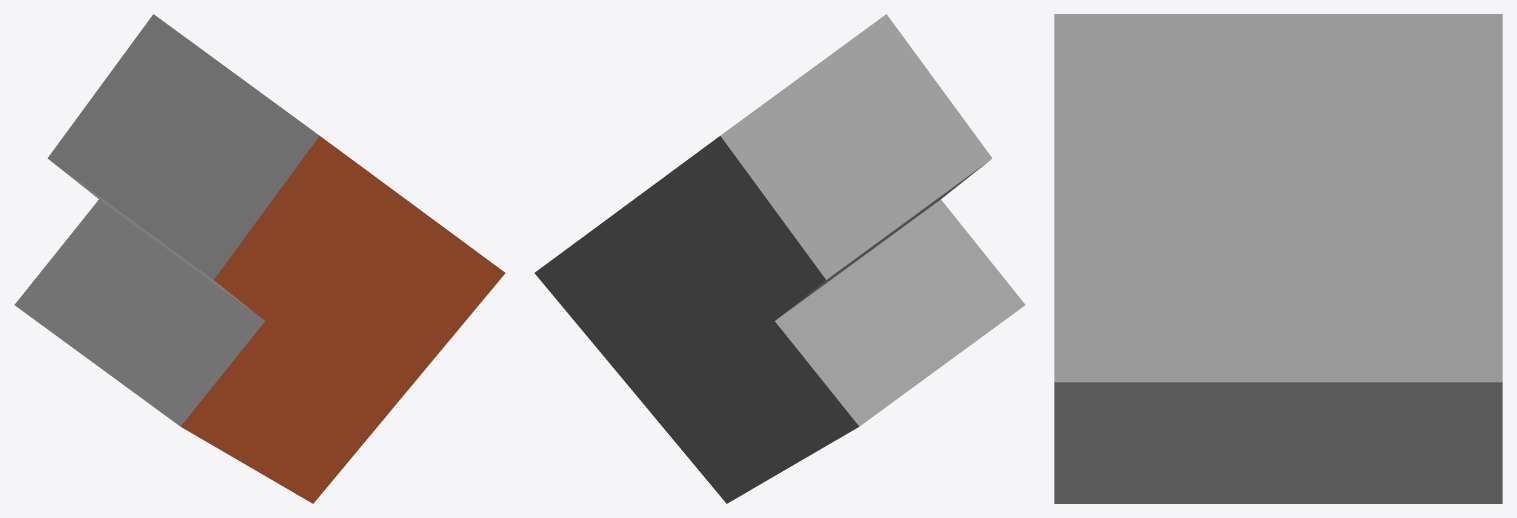
The model's file is construction_5410_assumed_A_Casa_h6m.obj.
3 renders of one model, left to right at view 1: azimuth 30°, elevation 25°; view 2: azimuth 150°, elevation 25°; view 3: azimuth 270°, elevation 25°, orthographic. The views are drawn at different scales.
Parts seen in each view (by area): view 1: construction_5410_assumed_A_Casa; view 2: construction_5410_assumed_A_Casa; view 3: construction_5410_assumed_A_Casa.
Boxes of the visible parts, x1,y1,x2,y2 form: construction_5410_assumed_A_Casa: (14, 14, 505, 503); construction_5410_assumed_A_Casa: (534, 14, 1025, 503); construction_5410_assumed_A_Casa: (1054, 14, 1502, 503).
Bounding box in the file's own units: 6.77 × 7.3 × 6.
